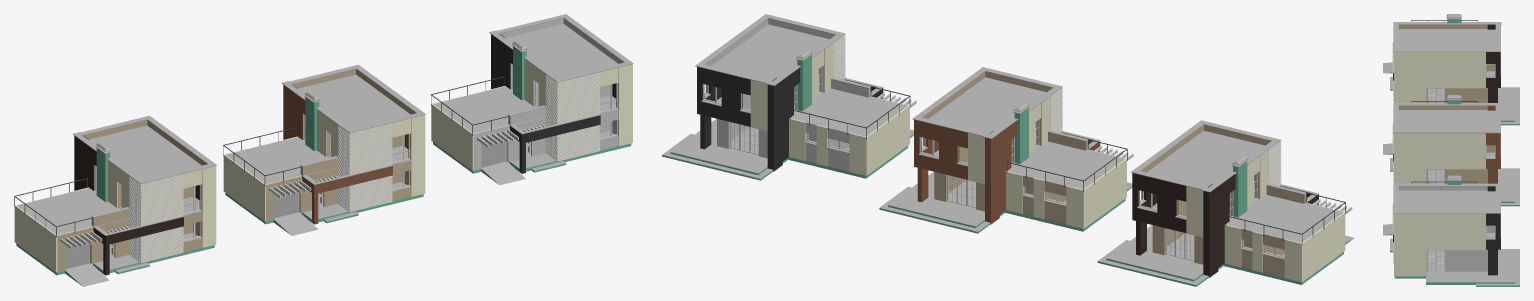
The model's file is abs-house.glb.
3 views of the same model, side by side, from view 1: azimuth 30°, elevation 25°; view 2: azimuth 150°, elevation 25°; view 3: azimuth 270°, elevation 25° (orthographic). The views are drawn at different scales.
Parts seen in each view (by area): view 1: abs-house_CERAMIC::Sanitary Ware::Sahara, abs-house_CERAMIC::Sanitary Ware::Sahara_ncl1_1, abs-house_CERAMIC::Sanitary Ware::Sahara_ncl1_2, abs-house_Material #21421490314234_ncl1_1, abs-house_Material #21421490314234, abs-house_Material #21421490314234_ncl1_2, abs-house_wood mebel mate, abs-house_wood mebel mate_ncl1_1, abs-house_wood mebel mate_ncl1_2, abs-house_CONCRETE::Exposed Solid::Exposed 9, abs-house_Material #491, abs-house_Material #490 (+9 smaller); view 2: abs-house_CERAMIC::Sanitary Ware::Sahara, abs-house_CERAMIC::Sanitary Ware::Sahara_ncl1_1, abs-house_CERAMIC::Sanitary Ware::Sahara_ncl1_2, abs-house_Material #21421490314234, abs-house_Material #21421490314234_ncl1_2, abs-house_Material #21421490314234_ncl1_1, abs-house_CONCRETE::Exposed Solid::Exposed 910, abs-house_CONCRETE::Exposed Solid::Exposed 910_ncl1_2, abs-house_CONCRETE::Exposed Solid::Exposed 910_ncl1_1, abs-house_CONCRETE::Exposed Solid::Exposed 9, abs-house_Material #491, abs-house_Material #490 (+9 smaller); view 3: abs-house_CERAMIC::Sanitary Ware::Sahara_ncl1_2, abs-house_Material #21421490314234_ncl1_2, abs-house_Material #21421490314234, abs-house_Material #21421490314234_ncl1_1, abs-house_CERAMIC::Sanitary Ware::Sahara, abs-house_CERAMIC::Sanitary Ware::Sahara_ncl1_1, abs-house_Material #491, abs-house_METAL::Smooth 2_ncl1_1, abs-house_METAL::Smooth 2_ncl1_2, abs-house_METAL::Smooth 2, abs-house_Material #490, abs-house_CONCRETE::Exposed Solid::Exposed 9 (+10 smaller).
Boxes of the visible parts, x1,y1,x2,y2 form: abs-house_CERAMIC::Sanitary Ware::Sahara: [17, 125, 201, 286]; abs-house_CERAMIC::Sanitary Ware::Sahara_ncl1_1: [225, 74, 410, 235]; abs-house_CERAMIC::Sanitary Ware::Sahara_ncl1_2: [433, 24, 617, 185]; abs-house_Material #21421490314234_ncl1_1: [223, 109, 425, 221]; abs-house_Material #21421490314234: [14, 160, 216, 272]; abs-house_Material #21421490314234_ncl1_2: [431, 59, 632, 170]; abs-house_wood mebel mate: [60, 166, 201, 262]; abs-house_wood mebel mate_ncl1_1: [269, 115, 409, 212]; abs-house_wood mebel mate_ncl1_2: [477, 64, 617, 161]; abs-house_CONCRETE::Exposed Solid::Exposed 9: [32, 120, 207, 272]; abs-house_Material #491: [448, 18, 623, 170]; abs-house_Material #490: [240, 69, 416, 221]; abs-house_CERAMIC::Sanitary Ware::Sahara: [1098, 130, 1354, 285]; abs-house_CERAMIC::Sanitary Ware::Sahara_ncl1_1: [879, 77, 1132, 231]; abs-house_CERAMIC::Sanitary Ware::Sahara_ncl1_2: [662, 24, 913, 178]; abs-house_Material #21421490314234: [1141, 141, 1345, 282]; abs-house_Material #21421490314234_ncl1_2: [705, 35, 909, 175]; abs-house_Material #21421490314234_ncl1_1: [922, 88, 1126, 228]; abs-house_CONCRETE::Exposed Solid::Exposed 910: [1132, 173, 1318, 277]; abs-house_CONCRETE::Exposed Solid::Exposed 910_ncl1_2: [697, 67, 883, 171]; abs-house_CONCRETE::Exposed Solid::Exposed 910_ncl1_1: [914, 119, 1100, 224]; abs-house_CONCRETE::Exposed Solid::Exposed 9: [1141, 125, 1306, 277]; abs-house_Material #491: [705, 18, 870, 171]; abs-house_Material #490: [922, 71, 1087, 224]; abs-house_CERAMIC::Sanitary Ware::Sahara_ncl1_2: [1383, 190, 1519, 285]; abs-house_Material #21421490314234_ncl1_2: [1394, 213, 1500, 276]; abs-house_Material #21421490314234: [1394, 52, 1500, 102]; abs-house_Material #21421490314234_ncl1_1: [1394, 133, 1500, 183]; abs-house_CERAMIC::Sanitary Ware::Sahara: [1383, 29, 1519, 123]; abs-house_CERAMIC::Sanitary Ware::Sahara_ncl1_1: [1383, 110, 1519, 204]; abs-house_Material #491: [1398, 186, 1494, 271]; abs-house_METAL::Smooth 2_ncl1_1: [1392, 95, 1501, 158]; abs-house_METAL::Smooth 2_ncl1_2: [1392, 175, 1501, 239]; abs-house_METAL::Smooth 2: [1392, 14, 1501, 77]; abs-house_Material #490: [1398, 105, 1494, 183]; abs-house_CONCRETE::Exposed Solid::Exposed 9: [1398, 24, 1494, 102].
Size of the model in its own units: 1.3 by 0.1966 by 0.3304.
